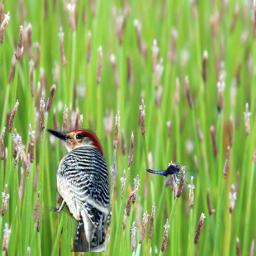Woodpecker: (43, 122, 113, 252)
